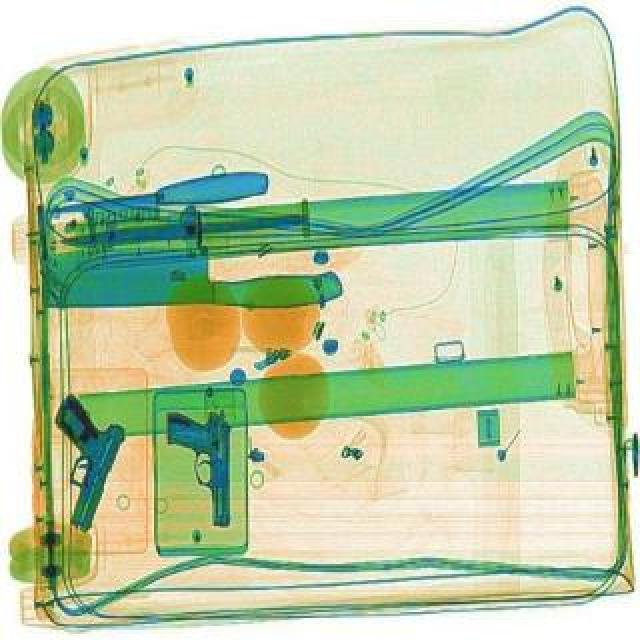gun: (18, 388, 130, 532), (164, 402, 234, 526)
knife: (38, 236, 342, 318), (44, 166, 270, 224), (58, 208, 302, 248)
